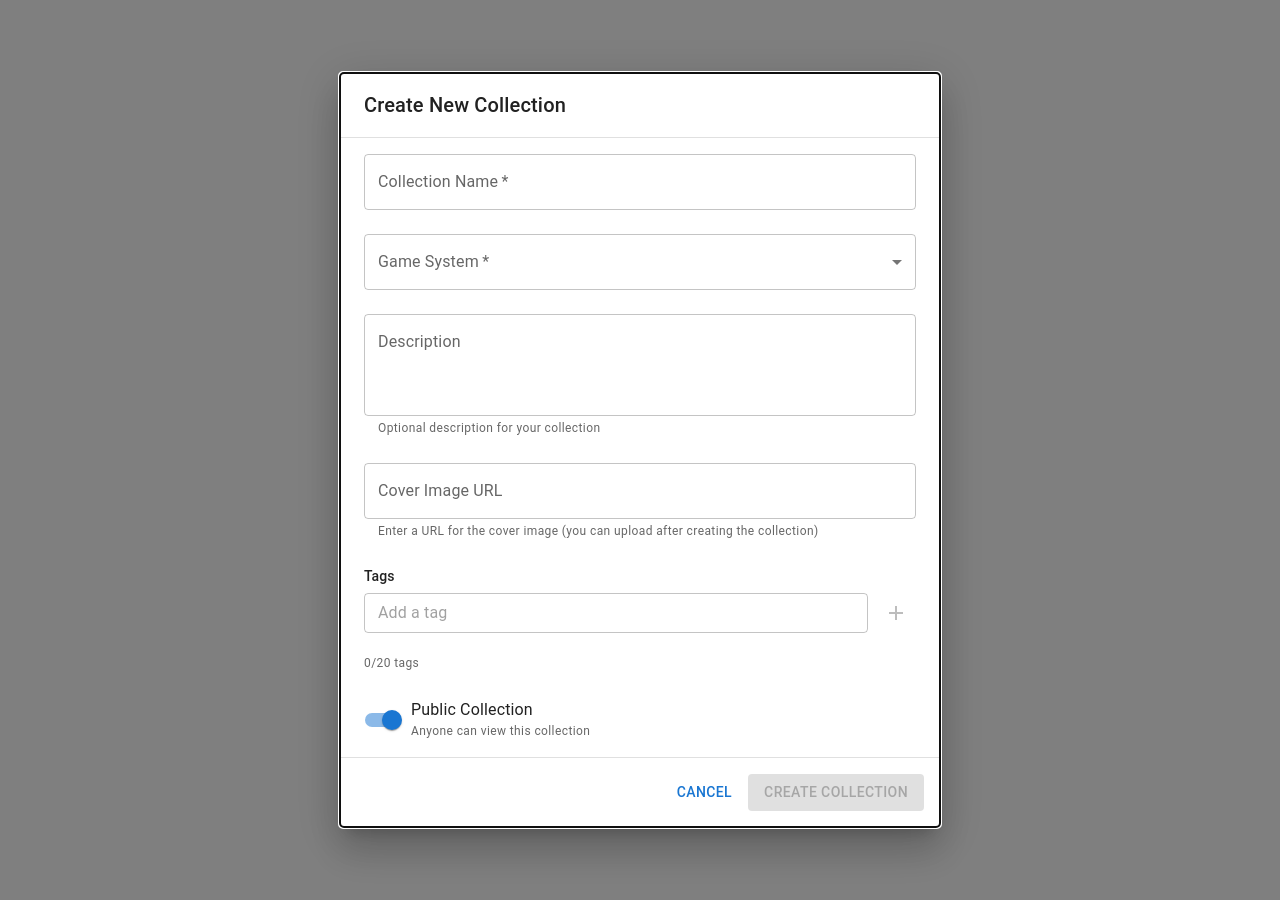
Test: CollectionForm › allows adding tags by pressing Enter
Step 1. Type "enter-tag" into the field with placeholder "Add a tag" → (616, 613), box [364,593,868,633]
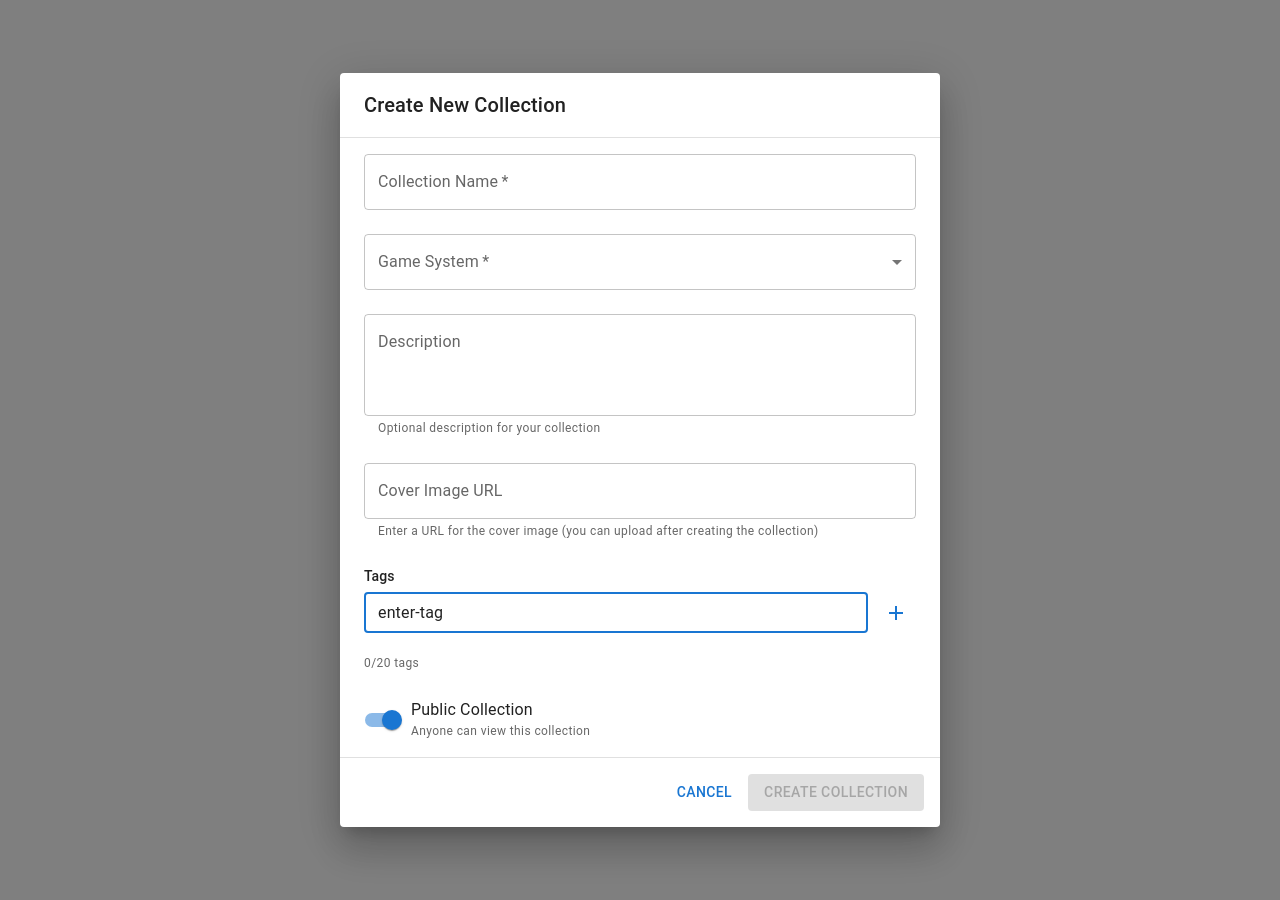
Step 2. Press Enter
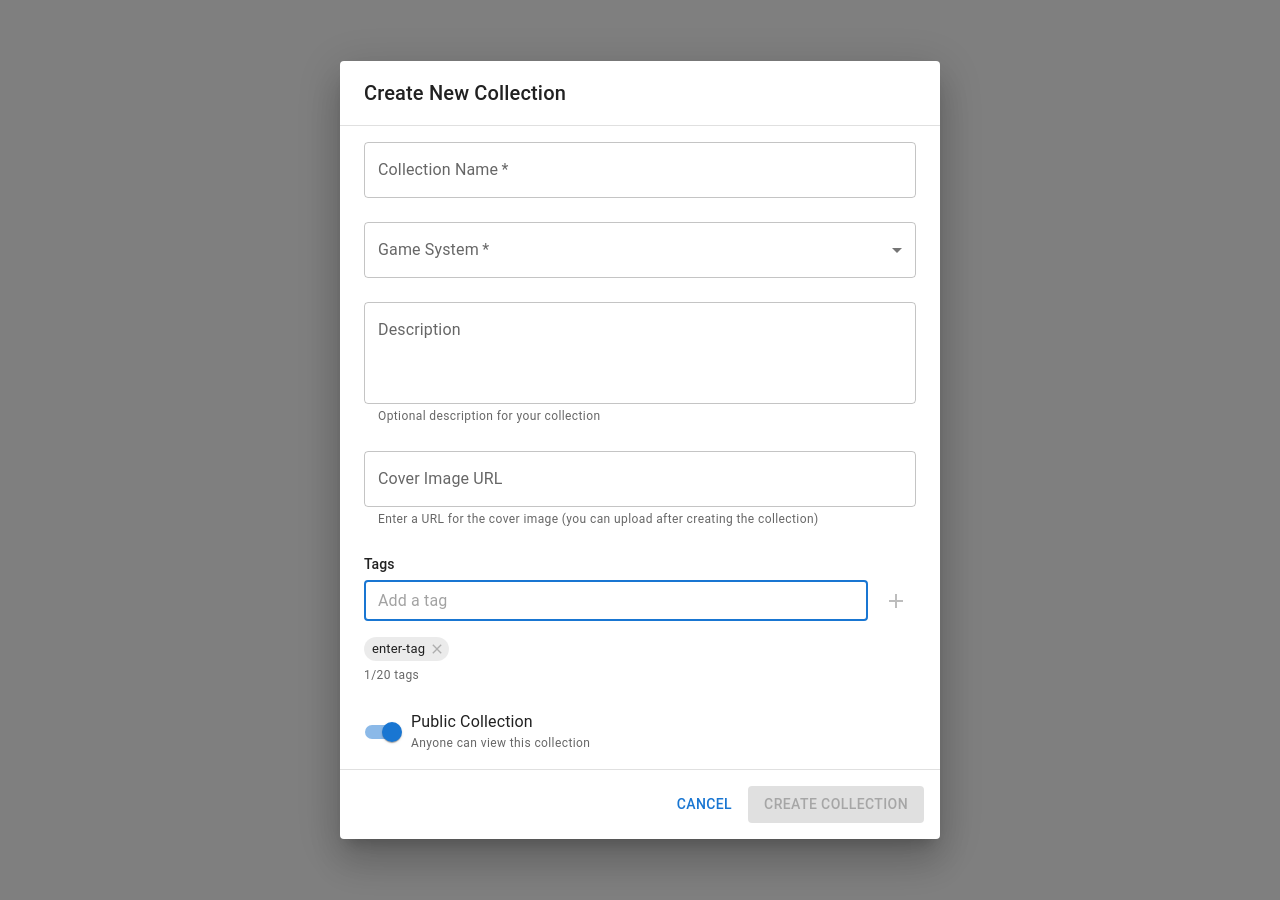
Result: the text "enter-tag" is shown at [372,641,425,656]
